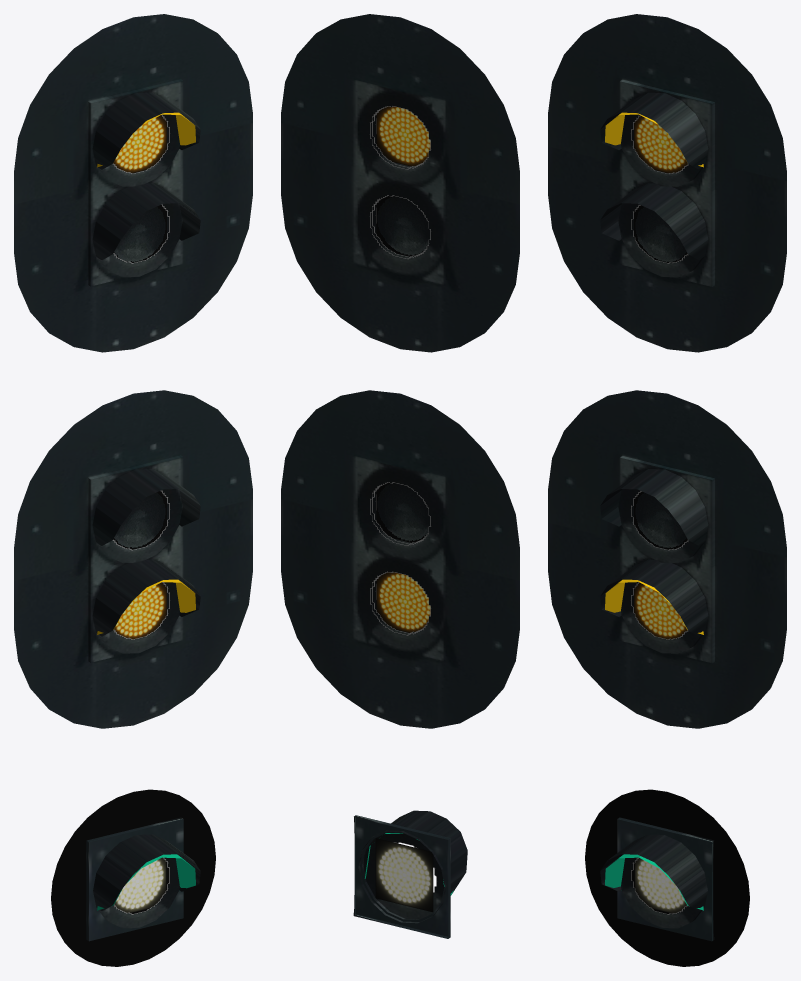
Rendered from signal-white-test.obj.
The picture shows the model from 3 angles, left to right: view 1: azimuth 30°, elevation 25°; view 2: azimuth 150°, elevation 25°; view 3: azimuth 330°, elevation 25°; orthographic projection.
Parts seen in each view (by area): view 1: upper, lower, call-on, callon-cap, cap, callon-box, light_3, light_1, light_2, light_4, callon-white-light, frame (+3 smaller); view 2: upper, lower, callon-cap, callon-box, callon-white-light, light_2, light_4, light_1, light_3; view 3: upper, lower, call-on, callon-cap, cap, callon-box, light_3, light_1, light_2, light_4, callon-white-light, frame (+3 smaller).
Boxes of the visible parts, x1,y1,x2,y2 form: upper: (14,14,252,352); lower: (14,390,252,728); call-on: (51,789,215,966); callon-cap: (93,834,200,928); cap: (92,559,200,653); callon-box: (86,817,183,941); light_3: (113,491,166,549); light_1: (113,115,166,173); light_2: (113,204,166,262); light_4: (114,582,166,639); callon-white-light: (114,857,166,912); frame: (88,455,182,662); upper: (281,14,519,352); lower: (281,390,519,728); callon-cap: (358,810,467,923); callon-box: (353,815,450,938); callon-white-light: (375,838,433,912); light_2: (376,196,430,256); light_4: (376,572,430,632); light_1: (376,106,430,166); light_3: (376,482,430,542); upper: (548,14,786,352); lower: (548,390,786,728); call-on: (585,789,749,966); callon-cap: (600,834,707,928); cap: (600,559,708,653); callon-box: (617,817,714,941); light_3: (634,491,687,549); light_1: (634,115,687,173); light_2: (634,205,687,262); light_4: (634,582,687,639); callon-white-light: (634,858,686,913); frame: (620,456,714,662).
Bounding box in the file's own units: 0.58 × 2.2 × 0.125.
12 materials, 12 textured.
